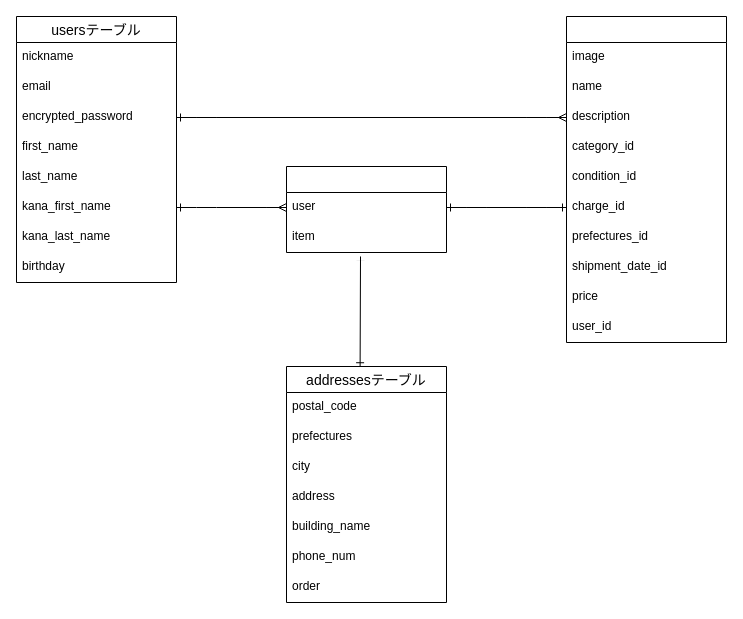
The diagram is 743 pixels wide and 619 high, and some of its shapes have lost their labels. Here are the shapes that lost their labels. From the top down, the box of each, then its label:
(566, 16, 726, 342): itemsテーブル
(286, 166, 446, 252): ordersテーブル
